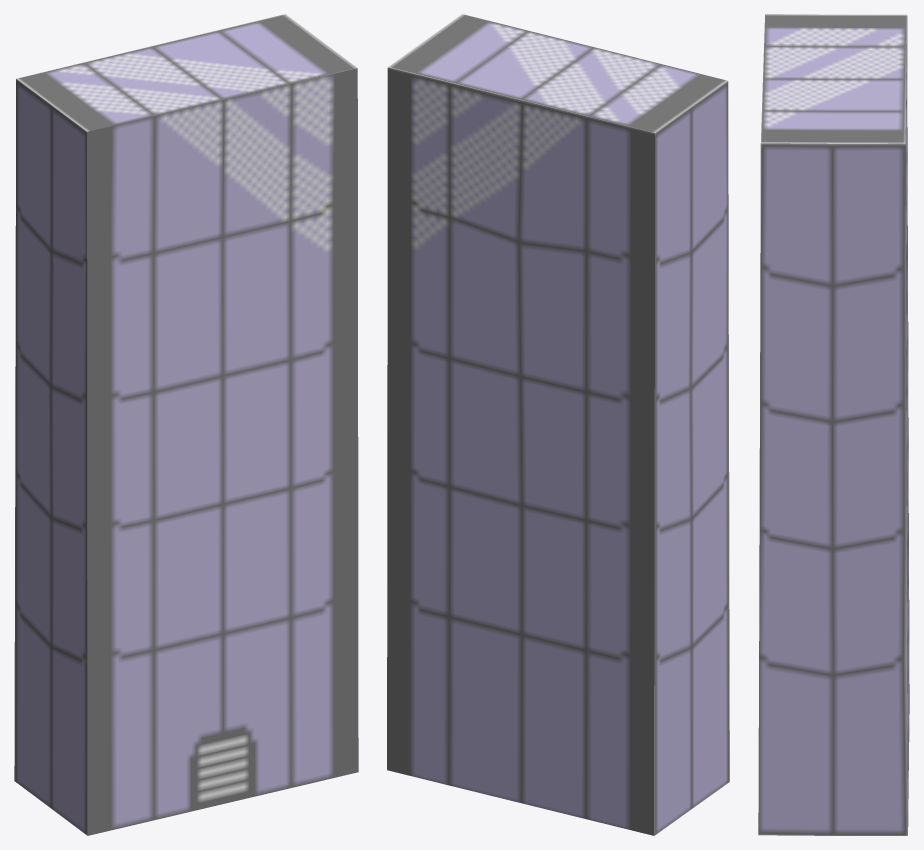
The model's file is building1.obj.
The picture shows the model from 3 angles, left to right: view 1: azimuth 30°, elevation 25°; view 2: azimuth 150°, elevation 25°; view 3: azimuth 270°, elevation 25°; orthographic projection.
Visible parts, largest first — view 1: Cube; view 2: Cube; view 3: Cube.
Boxes of the visible parts, x1,y1,x2,y2 form: Cube: [14, 14, 358, 835]; Cube: [387, 14, 729, 835]; Cube: [758, 14, 909, 835].
Size of the model in its own units: 2.01 by 5.01 by 0.9901.
1 material, 1 textured.
